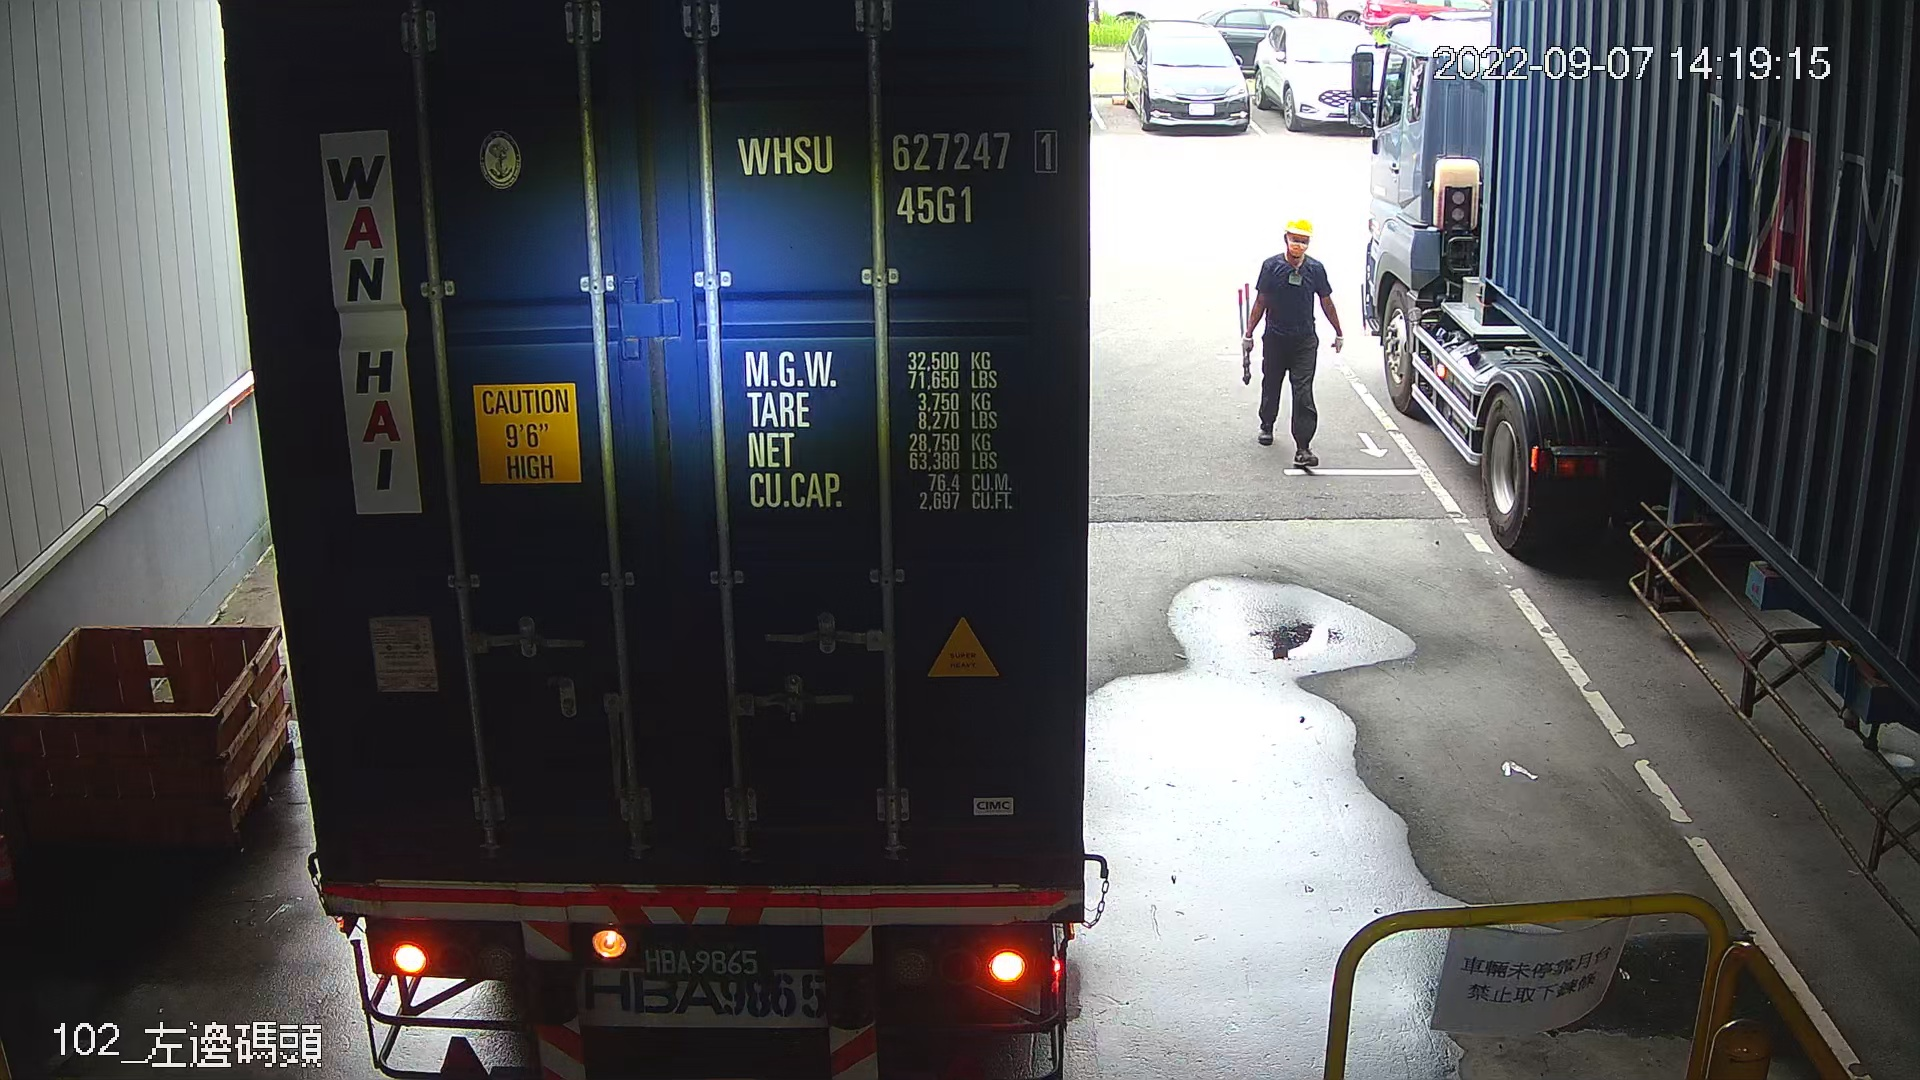container: (727, 119, 1067, 236)
